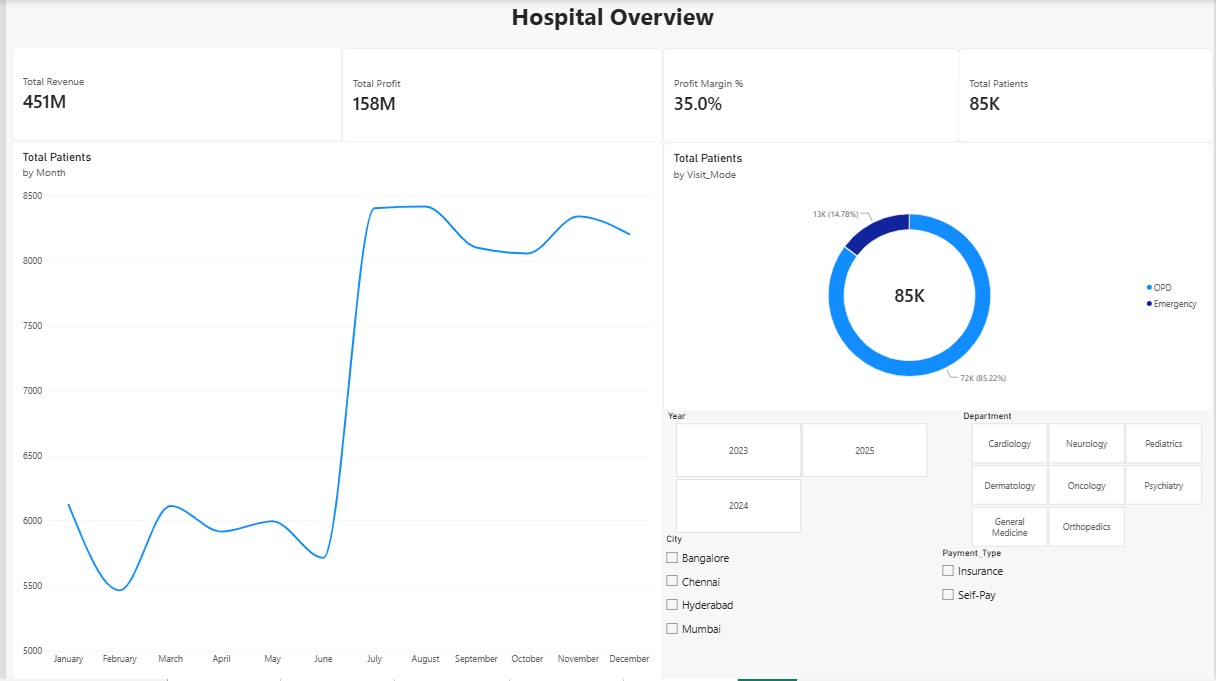

What the dashboard file says about the page in this screenshot:
{"tool":"powerbi","page":{"name":"Page 1","canvas":[1920,1080],"ordinal":0},"visuals":[{"type":"textbox","box":[9.5,0,1911.1,76.3],"z":0},{"type":"cardVisual","fields":{"Data":["Measure_Table.Total Patients"]},"box":[1515.1,76.3,405.6,150.3],"z":1},{"type":"cardVisual","fields":{"Data":["Measure_Table.Total Revenue"]},"box":[9.5,74,524.9,150.3],"z":2},{"type":"cardVisual","fields":{"Data":["Measure_Table.Total Profit"]},"box":[534.4,76.3,510.6,150.3],"z":3},{"type":"cardVisual","fields":{"Data":["Measure_Table.Profit Margin %"]},"box":[1045,76.3,470,150.3],"z":4},{"type":"lineChart","fields":{"Category":["Dim_Date.Month"],"Y":["Measure_Table.Total Patients"]},"box":[9.5,224.3,1035.5,856.5],"z":5},{"type":"donutChart","fields":{"Category":["Fact_Visits.Visit_Mode"],"Y":["Measure_Table.Total Patients"]},"box":[1045,226.7,875.6,427.1],"z":6},{"type":"slicer","fields":{"Values":["Dim_Date.Year"]},"box":[1045,653.7,439,195.6],"z":7},{"type":"slicer","fields":{"Values":["Dim_City.City"]},"box":[1042.6,849.4,439,231.4],"z":8},{"type":"slicer","fields":{"Values":["Dim_Department.Department"]},"box":[1515.1,653.7,405.6,217.1],"z":9},{"type":"slicer","fields":{"Values":["Dim_Payment.Payment_Type"]},"box":[1481.7,870.9,439,190.9],"z":10}]}

Visuals, with their boxes in screenshot pixels (x1, y1, x2, y2), scaled from the page's 1920x1080 canvas onto the 1216x681 screenshot:
textbox: (6,0,1215,48)
cardVisual - Measure_Table.Total Patients: (960,48,1215,143)
cardVisual - Measure_Table.Total Revenue: (6,47,338,141)
cardVisual - Measure_Table.Total Profit: (338,48,662,143)
cardVisual - Measure_Table.Profit Margin %: (662,48,960,143)
lineChart - Dim_Date.Month x Measure_Table.Total Patients: (6,141,662,680)
donutChart - Fact_Visits.Visit_Mode x Measure_Table.Total Patients: (662,143,1215,412)
slicer - Dim_Date.Year: (662,412,940,536)
slicer - Dim_City.City: (660,536,938,680)
slicer - Dim_Department.Department: (960,412,1215,549)
slicer - Dim_Payment.Payment_Type: (938,549,1215,670)
